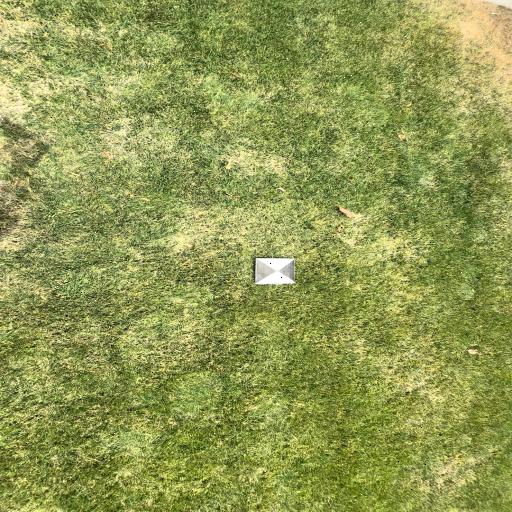target: (256, 258, 296, 283)
